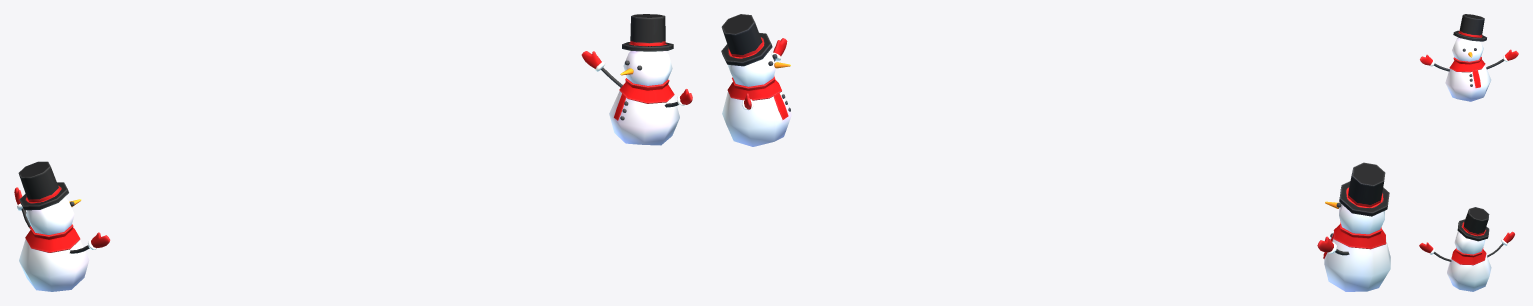
The model's file is obj_snowman.gltf.
3 views of the same model, side by side, from view 1: azimuth 30°, elevation 25°; view 2: azimuth 150°, elevation 25°; view 3: azimuth 270°, elevation 25° (orthographic). The views are drawn at different scales.
Parts seen in each view (by area): view 1: obj_snowman; view 2: obj_snowman; view 3: obj_snowman.
Part boxes in pixels (x1,y1,x2,y2): obj_snowman: (14,14,692,291); obj_snowman: (721,14,1390,291); obj_snowman: (1419,14,1518,291).
Size of what is drawn, in the model's own units: 15.84 by 2.9 by 3.21.
Materials: 1 (1 with a texture image).
